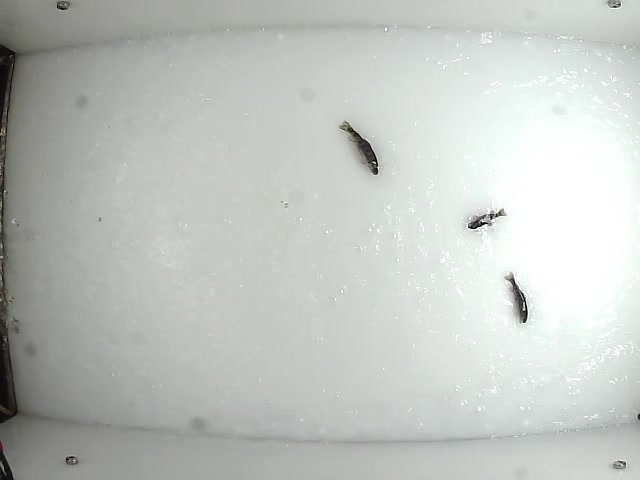fish: (337, 117, 380, 178), (504, 269, 527, 324), (462, 205, 507, 229)
